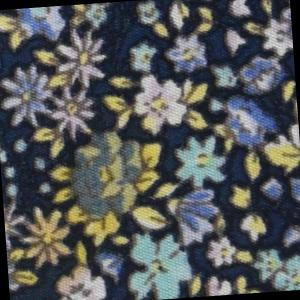Stain: (1, 122, 181, 300)
